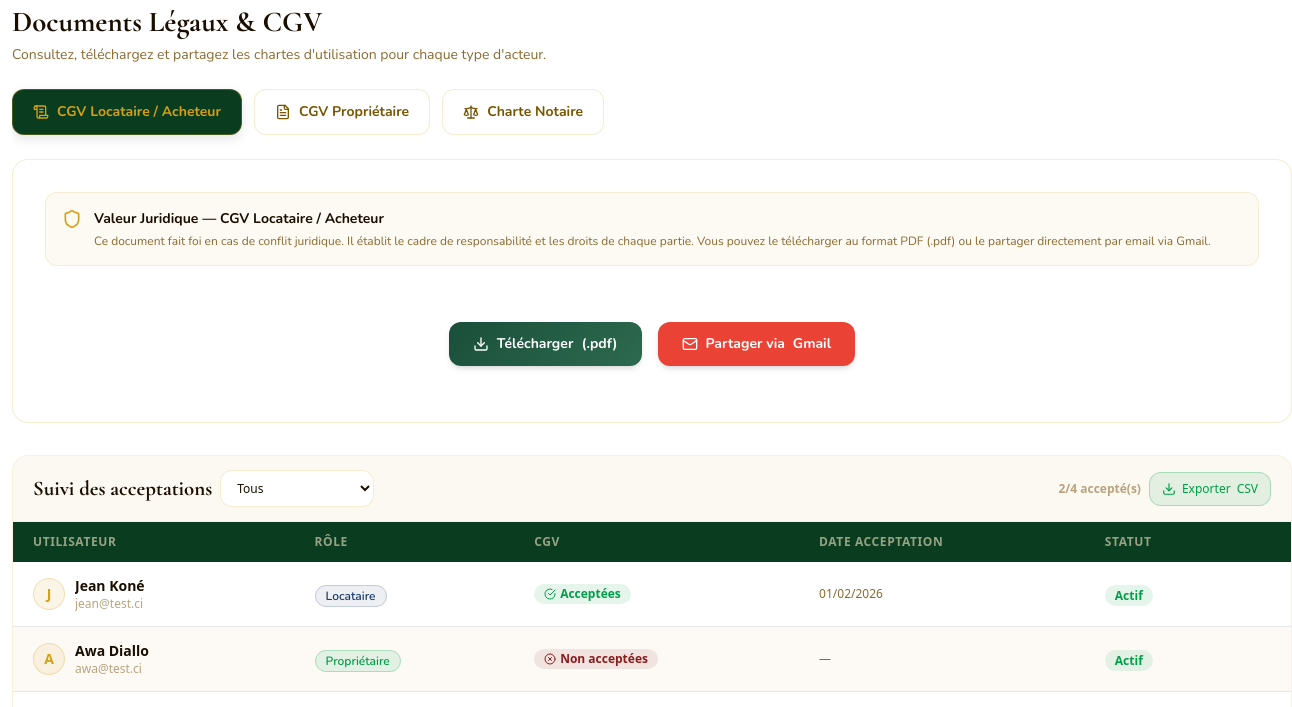
Test case: AdminCGVTab › filtre par CGV non acceptées
Select "CGV non acceptées" in the dropdown showing "Tous" at (297, 489), box [220, 470, 374, 507]
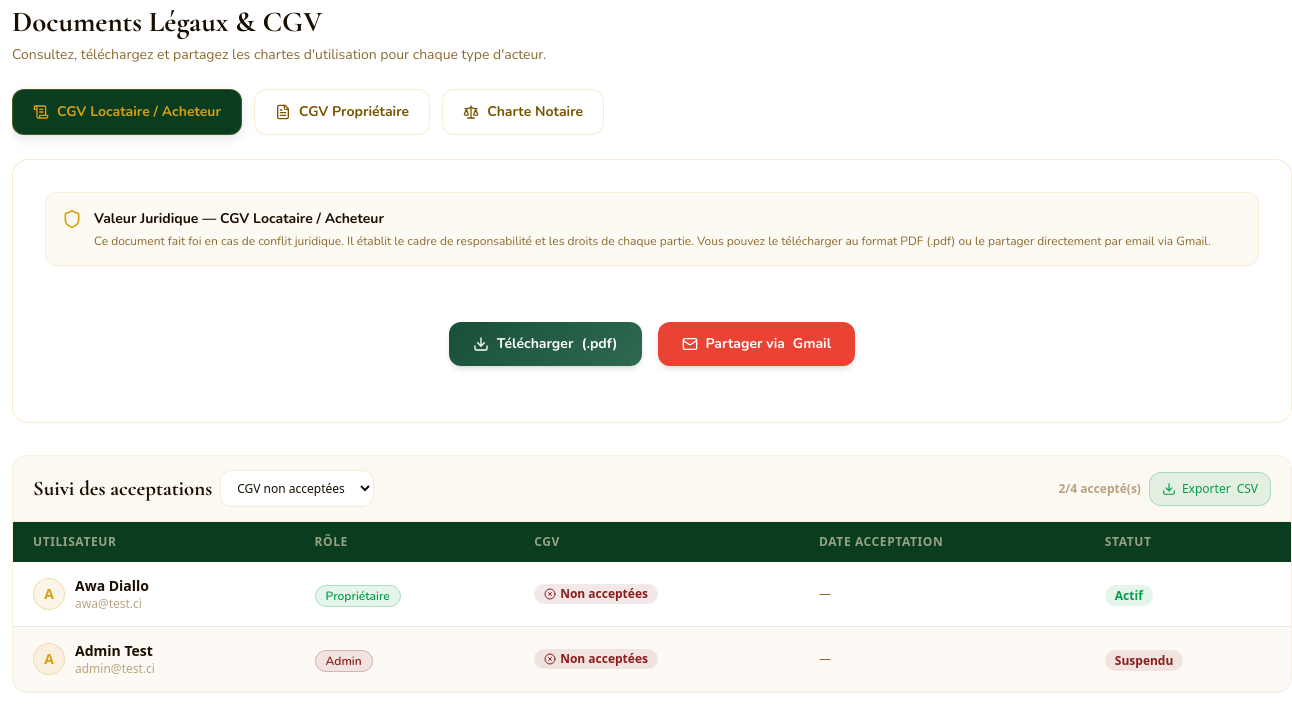
Check: the text "Awa Diallo" is shown, box [75, 576, 149, 596]
Check: the text "Jean Koné" is gone
